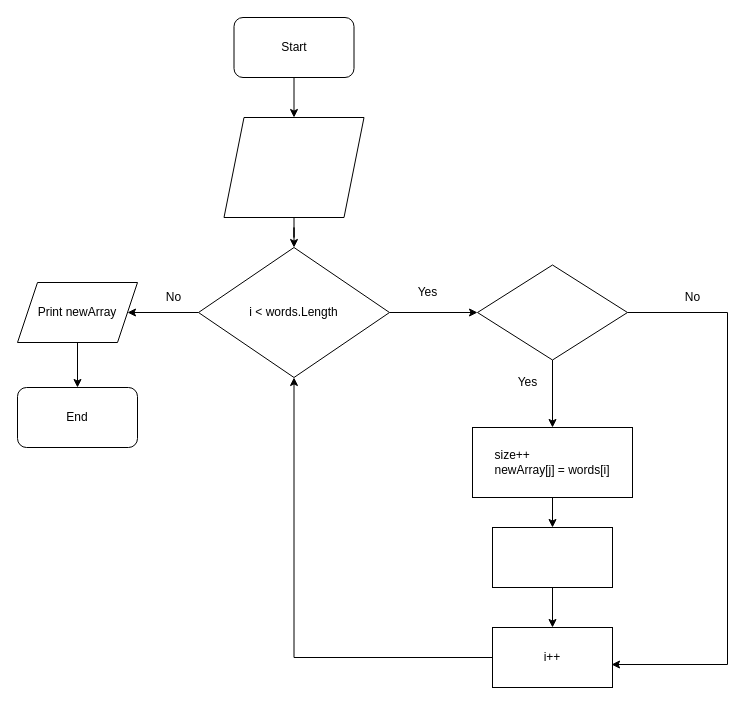
This 753x705 diagram has some shape labels left out. Each missing label, with the centre of its shape:
"j++" belongs at pixel 552 557.
"words[] newArray[size] size = 0 i = 0 j = 0" belongs at pixel 293 167.
"words[i].Length < 4" belongs at pixel 552 312.
